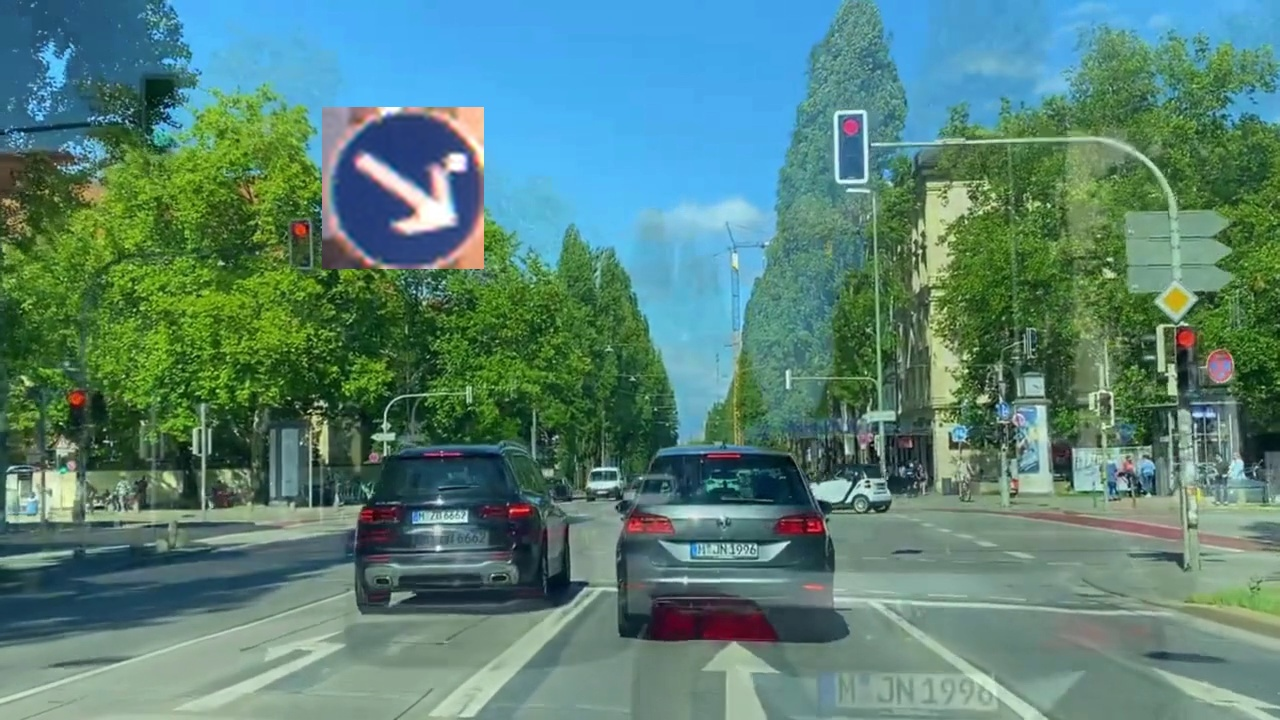Keep right: (322, 107, 484, 269)
